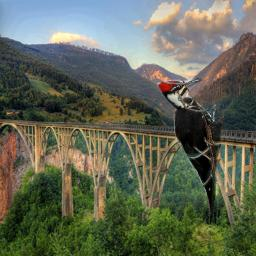Woodpecker: (157, 76, 224, 220)
